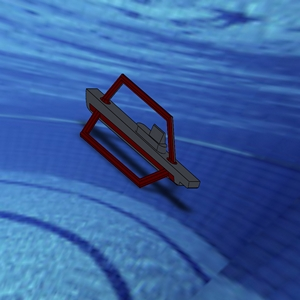submarine: (54, 46, 207, 213)
